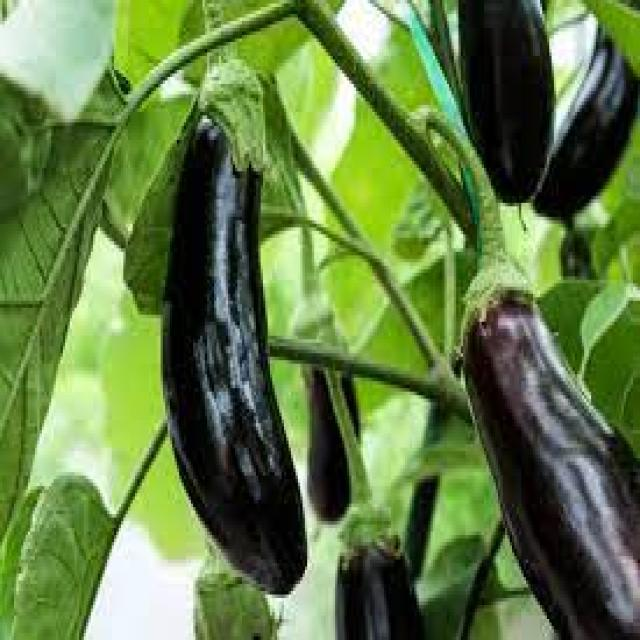Eggplant: (158, 1, 312, 598), (458, 199, 640, 640), (533, 0, 640, 220), (448, 0, 558, 205), (292, 240, 366, 526), (332, 465, 434, 640)
